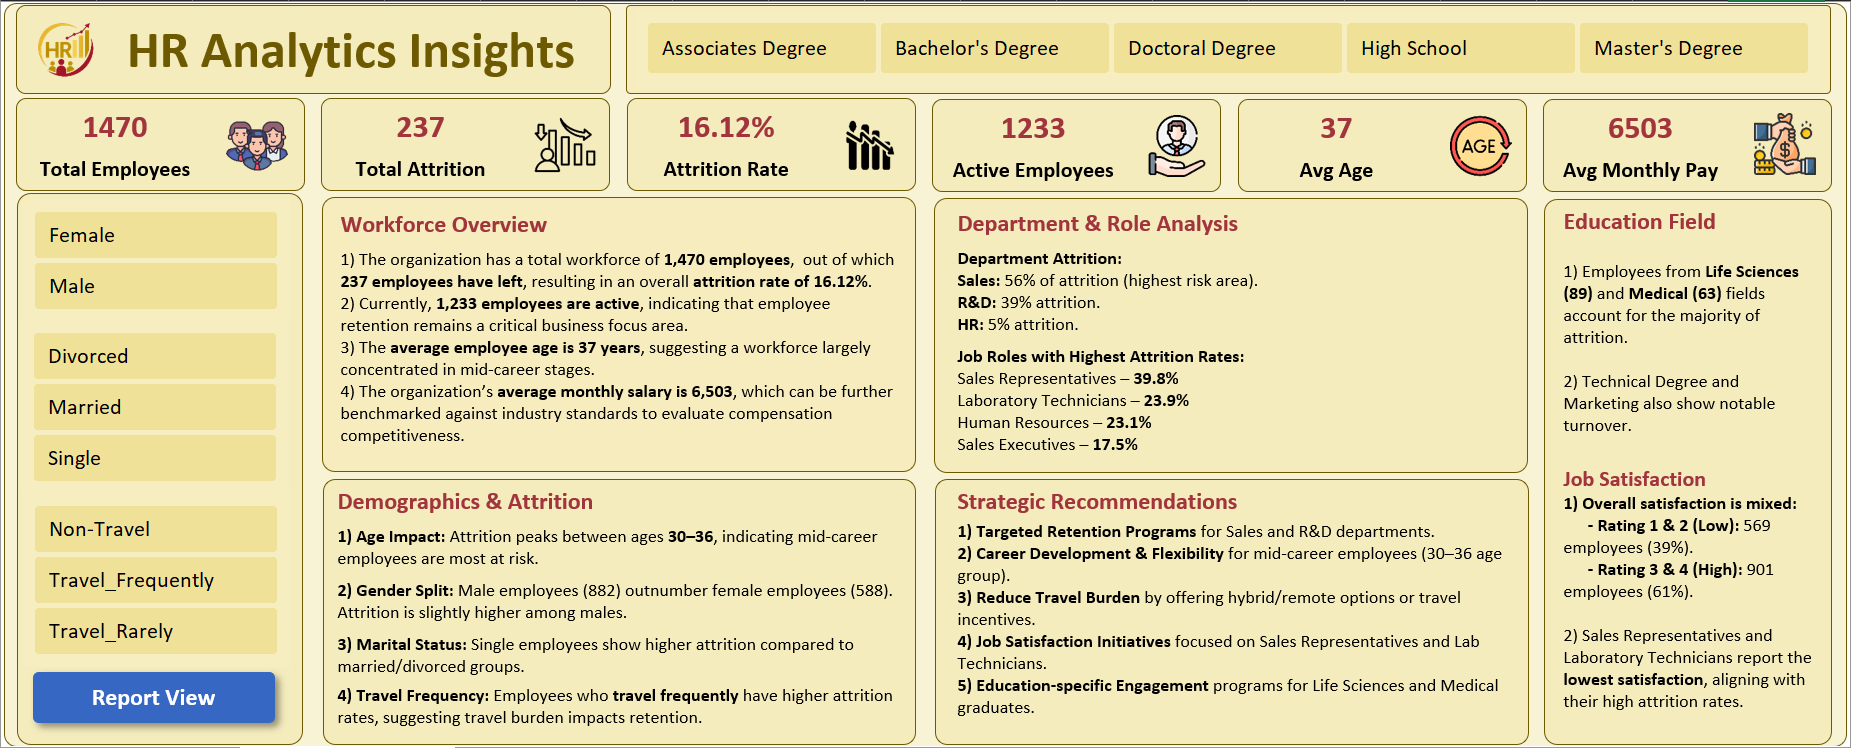

What the dashboard file says about the page in this screenshot:
{"tool":"powerbi","page":{"name":"HR Analytics Insights","canvas":[3300,1800],"ordinal":1},"visuals":[{"type":"cardVisual","fields":{"Data":["HR Data.Total Employees","HR Data.Total Attrition","HR Data.Attrition Rate","HR Data.Active Employee","HR Data.Avg. Age","HR Data.Avg Monthly Pay"]},"box":[0,222.6,3291.1,283.4],"z":0},{"type":"advancedSlicerVisual","fields":{"Values":["HR Data.Gender"]},"box":[32.4,493.9,510.1,295.5],"z":1000},{"type":"advancedSlicerVisual","fields":{"Values":["HR Data.Marital Status"]},"box":[32.4,825.8,510.1,372.4],"z":2000},{"type":"advancedSlicerVisual","fields":{"Values":["HR Data.Business Travel"]},"box":[32.4,1238.7,510.1,372.4],"z":3000},{"type":"advancedSlicerVisual","fields":{"Values":["HR Data.Education"]},"box":[1113.2,40.5,2165.7,182.2],"z":4000},{"type":"textbox","box":[206.5,56.7,890.6,182.2],"z":5000},{"type":"actionButton","box":[38.5,1644.7,498.6,113.5],"z":6000},{"type":"image","box":[0,24.3,226.7,218.6],"z":7000},{"type":"shape","box":[574.8,493.9,1052.5,643.6],"z":8000},{"type":"shape","box":[574.8,1149.7,1052.5,643.6],"z":9000},{"type":"shape","box":[1663.8,497.9,1052.5,643.6],"z":10000},{"type":"shape","box":[1663.8,1149.7,1052.5,643.6],"z":11000},{"type":"shape","box":[2748.6,493.9,514.1,1299.4],"z":12000},{"type":"textbox","box":[583.3,498,1037.7,631.9],"z":13000},{"type":"textbox","box":[582.9,1157.7,1036.3,631.5],"z":14000},{"type":"textbox","box":[1671.9,502,1036.3,631.5],"z":15000},{"type":"textbox","box":[1671.9,1157.7,1036.3,631.5],"z":16000},{"type":"textbox","box":[2757.5,502,496,1282],"z":17000}]}

Visuals, with their boxes on the page's 3300x1800 design canvas (x1, y1, x2, y2). These are canvas units, not pixel positions in the 1851x748 screenshot, which may show the page scaled, cropped or inside an application window:
cardVisual - HR Data.Total Employees x HR Data.Total Attrition: box(0, 223, 3291, 506)
advancedSlicerVisual - HR Data.Gender: box(32, 494, 542, 789)
advancedSlicerVisual - HR Data.Marital Status: box(32, 826, 542, 1198)
advancedSlicerVisual - HR Data.Business Travel: box(32, 1239, 542, 1611)
advancedSlicerVisual - HR Data.Education: box(1113, 40, 3279, 223)
textbox: box(206, 57, 1097, 239)
actionButton: box(38, 1645, 537, 1758)
image: box(0, 24, 227, 243)
shape: box(575, 494, 1627, 1138)
shape: box(575, 1150, 1627, 1793)
shape: box(1664, 498, 2716, 1142)
shape: box(1664, 1150, 2716, 1793)
shape: box(2749, 494, 3263, 1793)
textbox: box(583, 498, 1621, 1130)
textbox: box(583, 1158, 1619, 1789)
textbox: box(1672, 502, 2708, 1134)
textbox: box(1672, 1158, 2708, 1789)
textbox: box(2758, 502, 3254, 1784)
